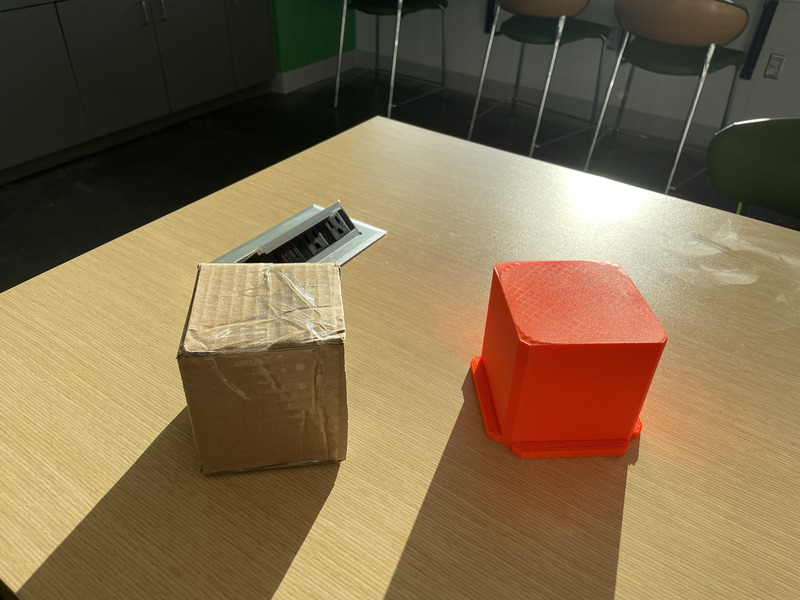payload1: (468, 253, 674, 479)
payload3: (169, 253, 369, 486)
